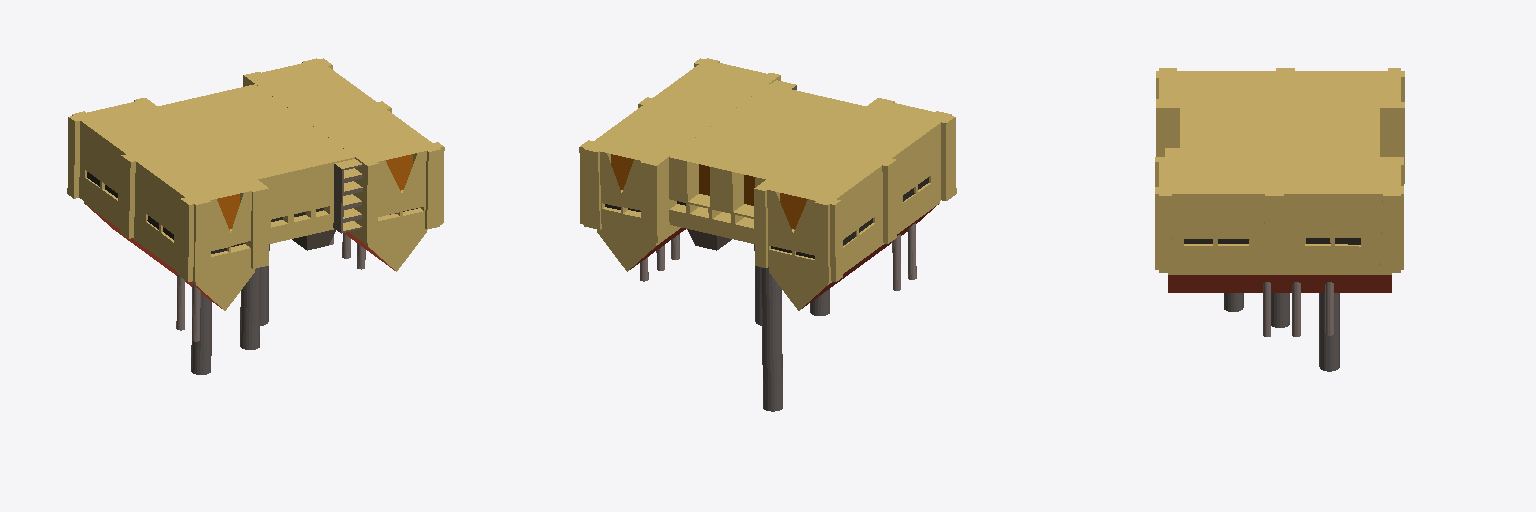
File: fabric.obj
The picture shows the model from 3 angles: view 1: azimuth 30°, elevation 25°; view 2: azimuth 150°, elevation 25°; view 3: azimuth 270°, elevation 25°; orthographic projection.
Parts seen in each view (by area): view 1: Cylinder.8; view 2: Cylinder.8; view 3: Cylinder.8.
Boxes of the visible parts, <box> form: Cylinder.8: <box>67,58,444,374</box>; Cylinder.8: <box>579,58,956,411</box>; Cylinder.8: <box>1155,68,1404,371</box>.
Bounding box in the file's own units: 532 × 500 × 448.